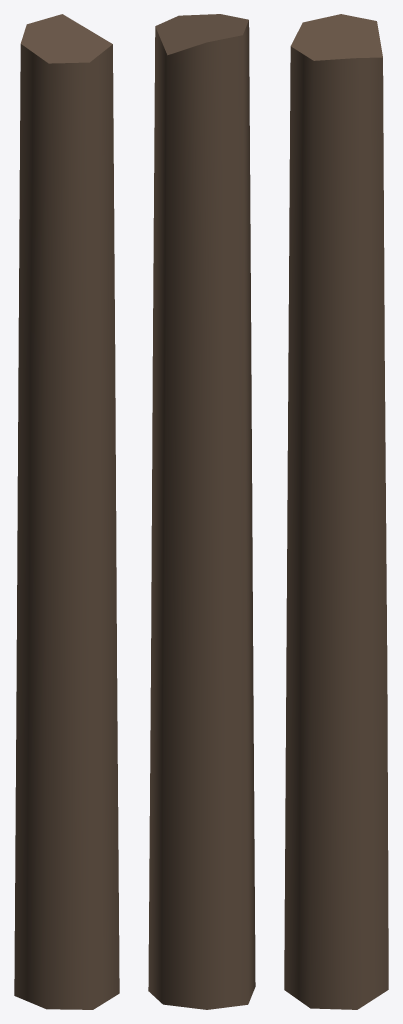
File: groyne-post-1.glb
3 views of the same model, side by side, from view 1: azimuth 30°, elevation 25°; view 2: azimuth 210°, elevation 25°; view 3: azimuth 330°, elevation 25° (orthographic).
Parts seen in each view (by area): view 1: groyne-post-1; view 2: groyne-post-1; view 3: groyne-post-1.
Part boxes in pixels (x1,y1,x2,y2): groyne-post-1: (14,14,119,1009); groyne-post-1: (148,14,255,1009); groyne-post-1: (284,14,388,1009).
Size of the model in its own units: 0.3888 by 3.91 by 0.3806.
